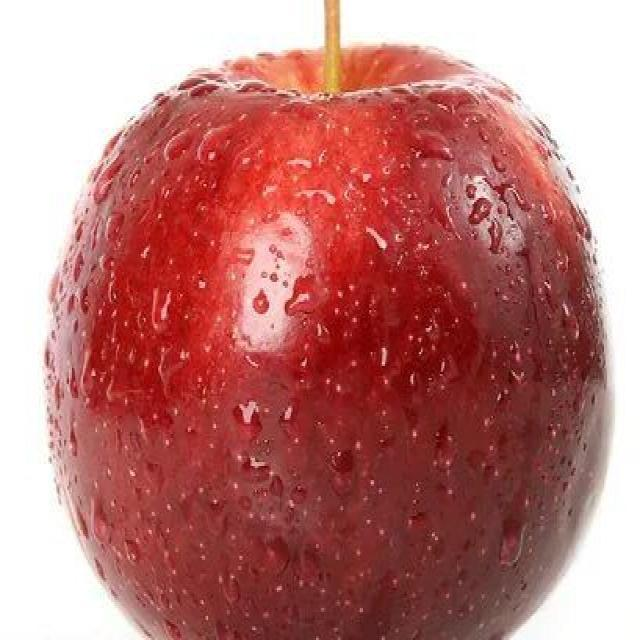Fresh Apple: (46, 46, 640, 640)
